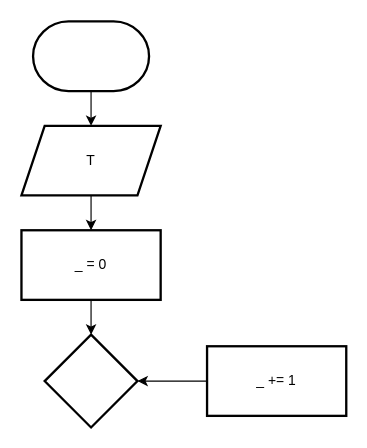
The diagram is 367 pixels wide and 448 high, and some of its shapes have lost their labels. The box of each missing label's shape, as (x1, y1, x2, y2) in pixels:
_ < T: (43, 333, 138, 428)
start: (31, 20, 150, 92)
